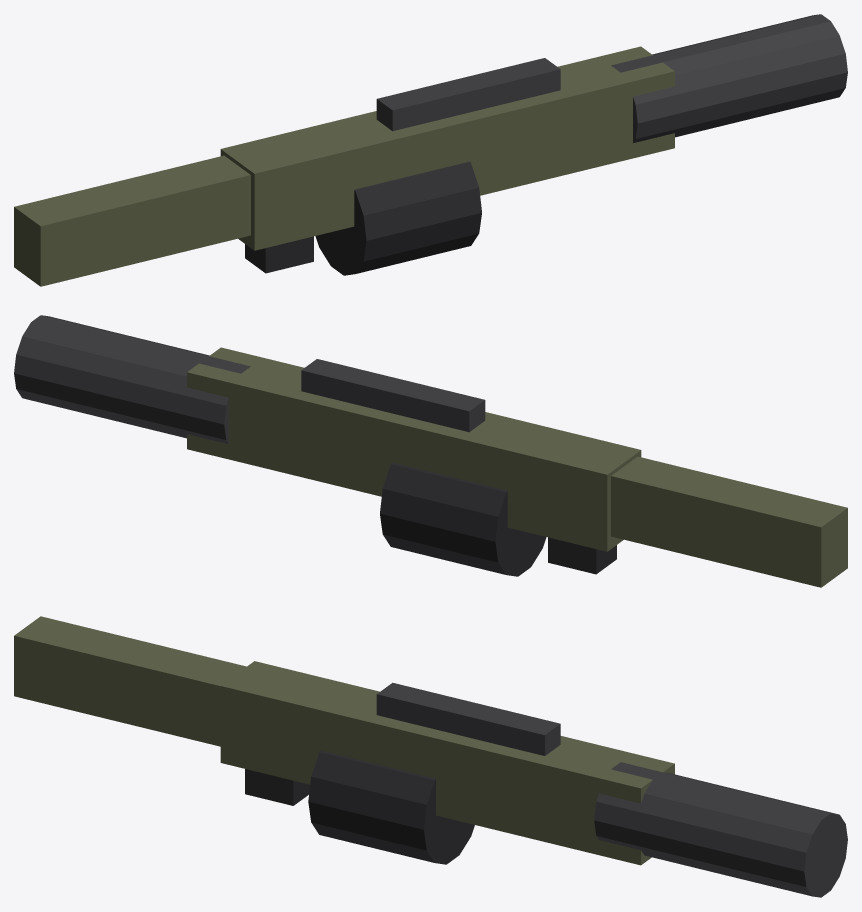
File: SM_Wpn_GL.fbx
The picture shows the model from 3 angles, top to bottom: view 1: azimuth 30°, elevation 25°; view 2: azimuth 150°, elevation 25°; view 3: azimuth 330°, elevation 25°; orthographic projection.
Visible parts, largest first — view 1: SM_Wpn_GL; view 2: SM_Wpn_GL; view 3: SM_Wpn_GL.
Boxes of the visible parts, x1,y1,x2,y2 form: SM_Wpn_GL: [14, 14, 847, 286]; SM_Wpn_GL: [14, 315, 847, 587]; SM_Wpn_GL: [14, 616, 847, 897].
Size of the model in its own units: 76 by 9.6 by 14.08.
